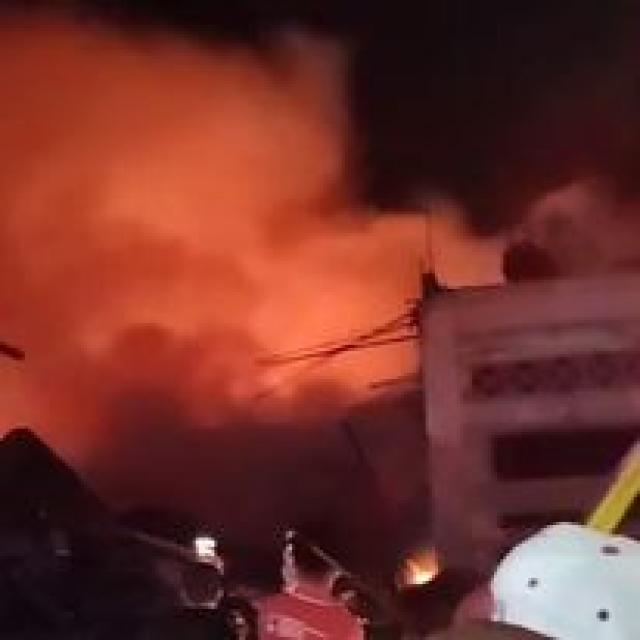Smoke: (9, 2, 389, 318), (28, 332, 366, 424)
